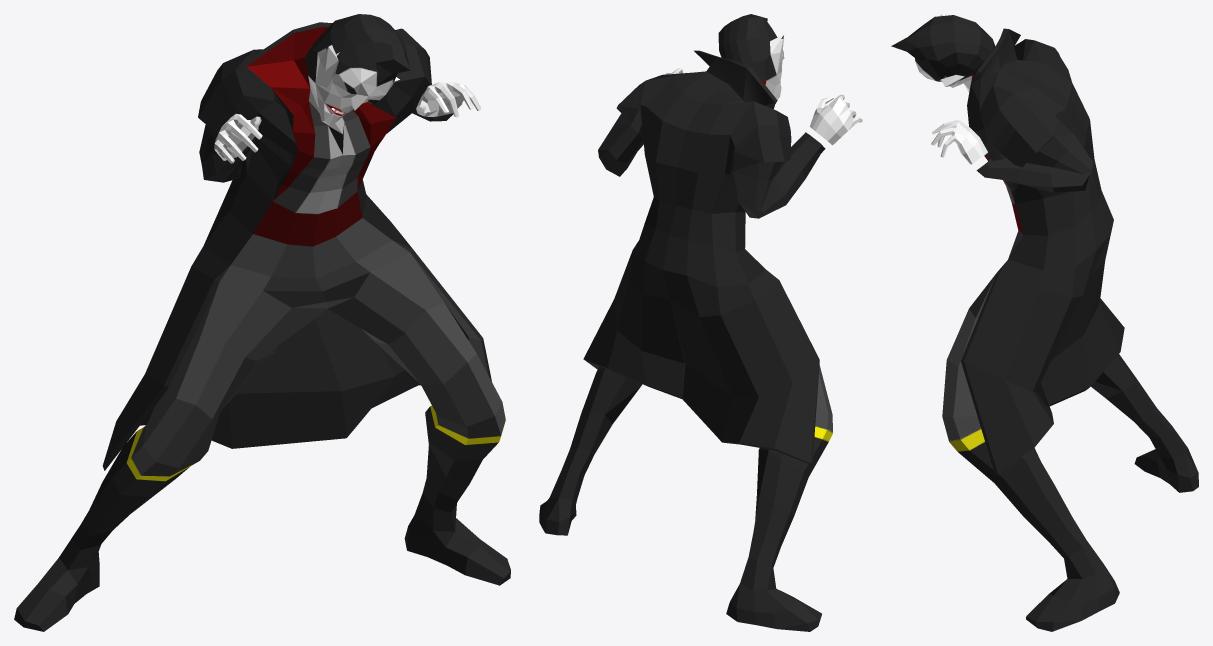
The model's file is VampireAttack(66).obj.
3 views of the same model, side by side, from view 1: azimuth 30°, elevation 25°; view 2: azimuth 150°, elevation 25°; view 3: azimuth 270°, elevation 25° (orthographic). The views are drawn at different scales.
Visible parts, largest first — view 1: Plane002; view 2: Plane002; view 3: Plane002.
Boxes of the visible parts, <box> form: Plane002: <box>14,14,510,631</box>; Plane002: <box>539,14,862,631</box>; Plane002: <box>891,14,1198,631</box>.
Bounding box in the file's own units: 190 × 277 × 145.
